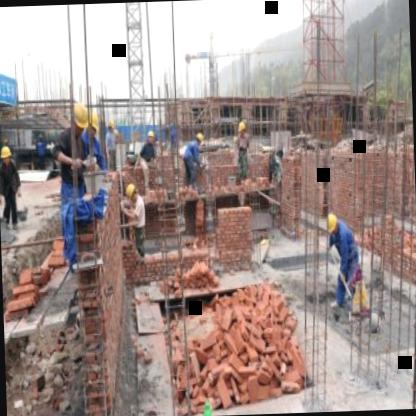helmet: (70, 100, 90, 140), (82, 110, 100, 140), (323, 210, 340, 238), (124, 183, 140, 204), (0, 143, 13, 167), (194, 129, 205, 148), (238, 118, 247, 136)
